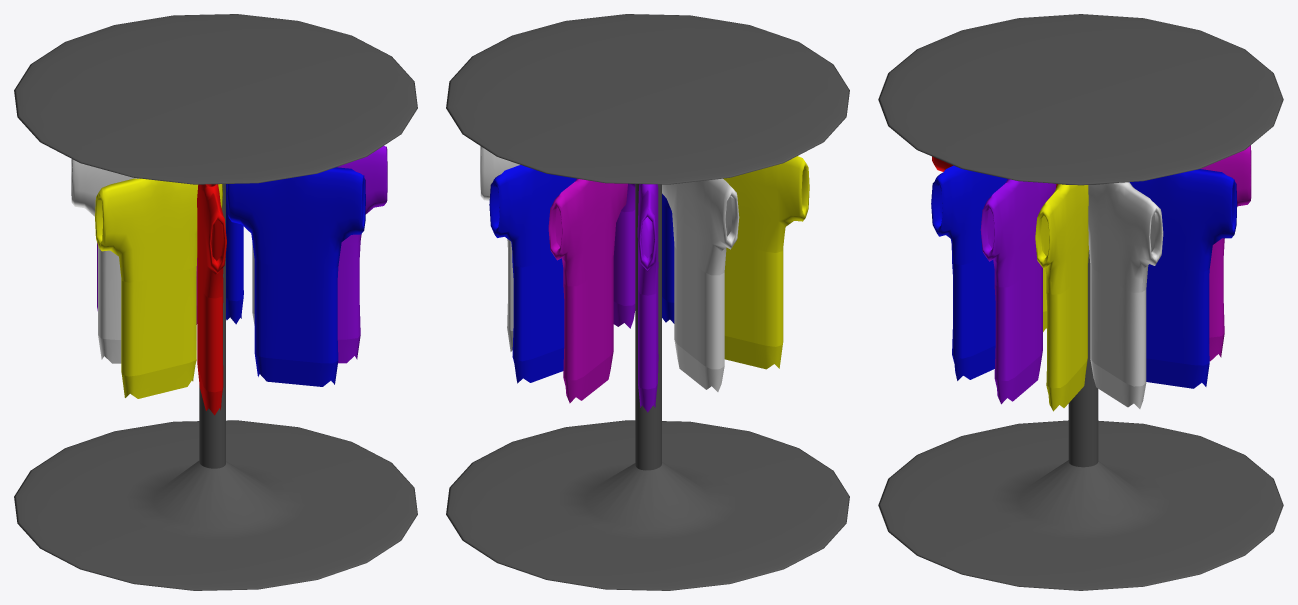
File: ShirtRack3.fbx
3 renders of one model, left to right at view 1: azimuth 30°, elevation 25°; view 2: azimuth 150°, elevation 25°; view 3: azimuth 270°, elevation 25°, orthographic.
Visible parts, largest first — view 1: shirt_rack23:polySurface15; view 2: shirt_rack23:polySurface15; view 3: shirt_rack23:polySurface15.
Boxes of the visible parts, left/top/right/bottom form: shirt_rack23:polySurface15: left=14, top=14, right=417, bottom=590; shirt_rack23:polySurface15: left=446, top=14, right=849, bottom=590; shirt_rack23:polySurface15: left=878, top=14, right=1283, bottom=590.
Bounding box in the file's own units: 2 × 2.26 × 2.
